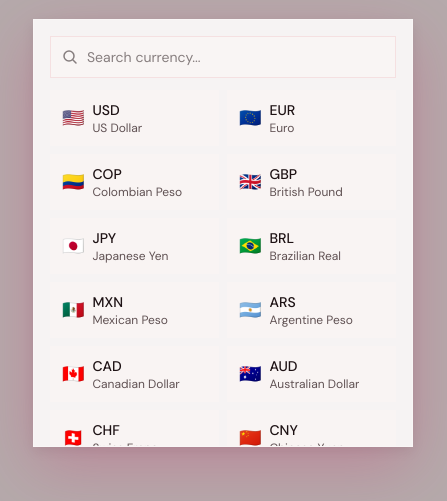
Test: CurrencySelector › filters currencies by name
The image size is (447, 501).
In the field with placeholder "Search currency...": (223, 57) top-left (50, 36), bottom-right (396, 78), type "Peso"
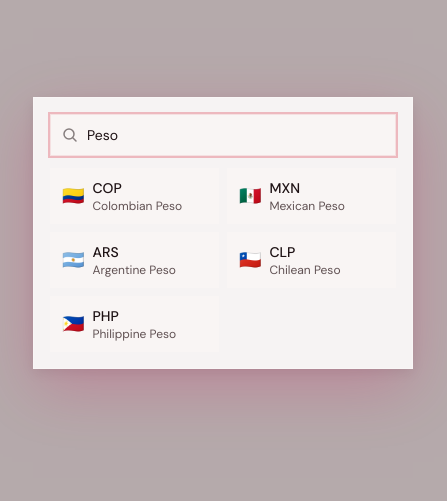
Expected: the text "MXN" is shown, top-left (270, 179), bottom-right (300, 197)
Expected: the button "USD" is gone
